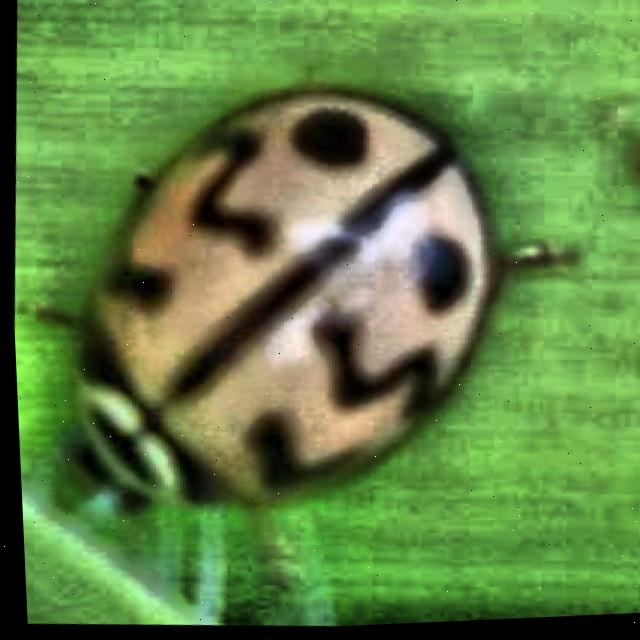Asian-Lady-beetle: (0, 0, 609, 640)
